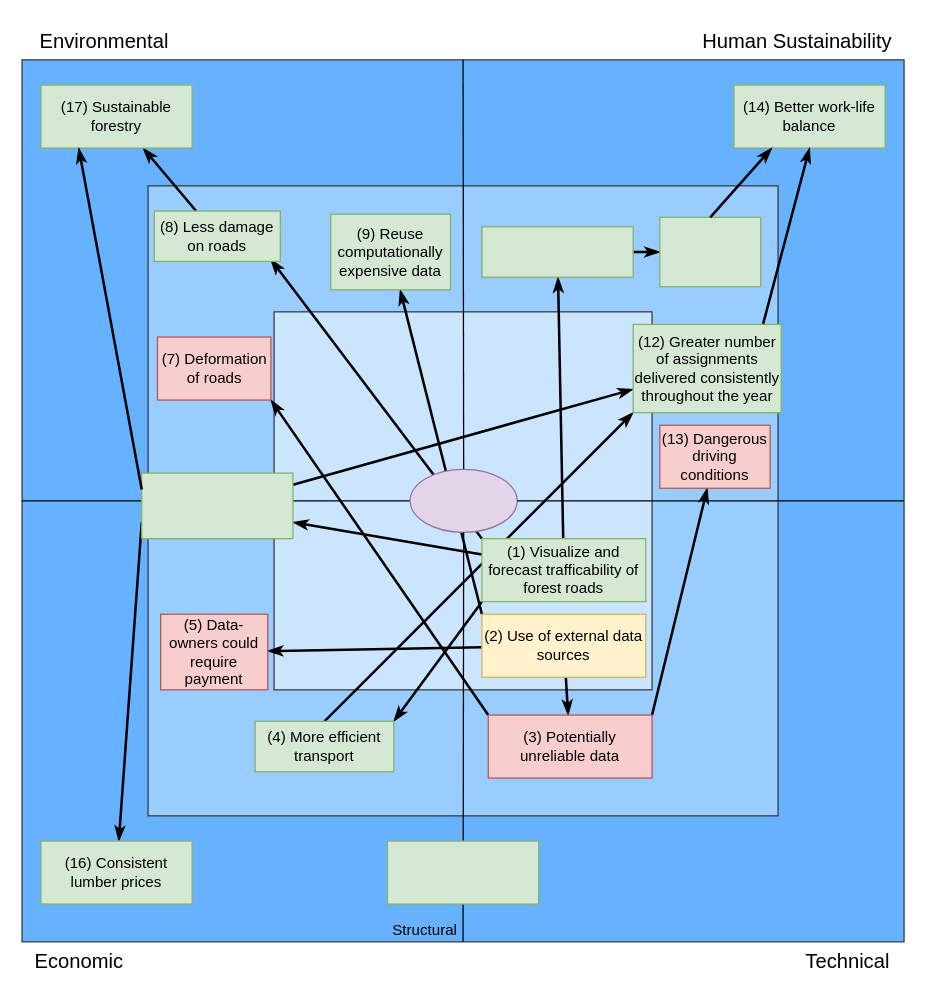
Image size: 927x1000. Some labels were removed from this diagram. Each missing label, with the box of its shape:
(10) More efficient transport planning: (481, 226, 633, 277)
(11) Spare time for other activities: (659, 216, 761, 287)
(15) Inspire development of new tools: (386, 840, 539, 904)
(6) More consistent harvesting throughout the year: (140, 472, 293, 539)
Enabling: (147, 185, 778, 816)
Immediate: (273, 311, 652, 690)
Product: (409, 468, 517, 532)
